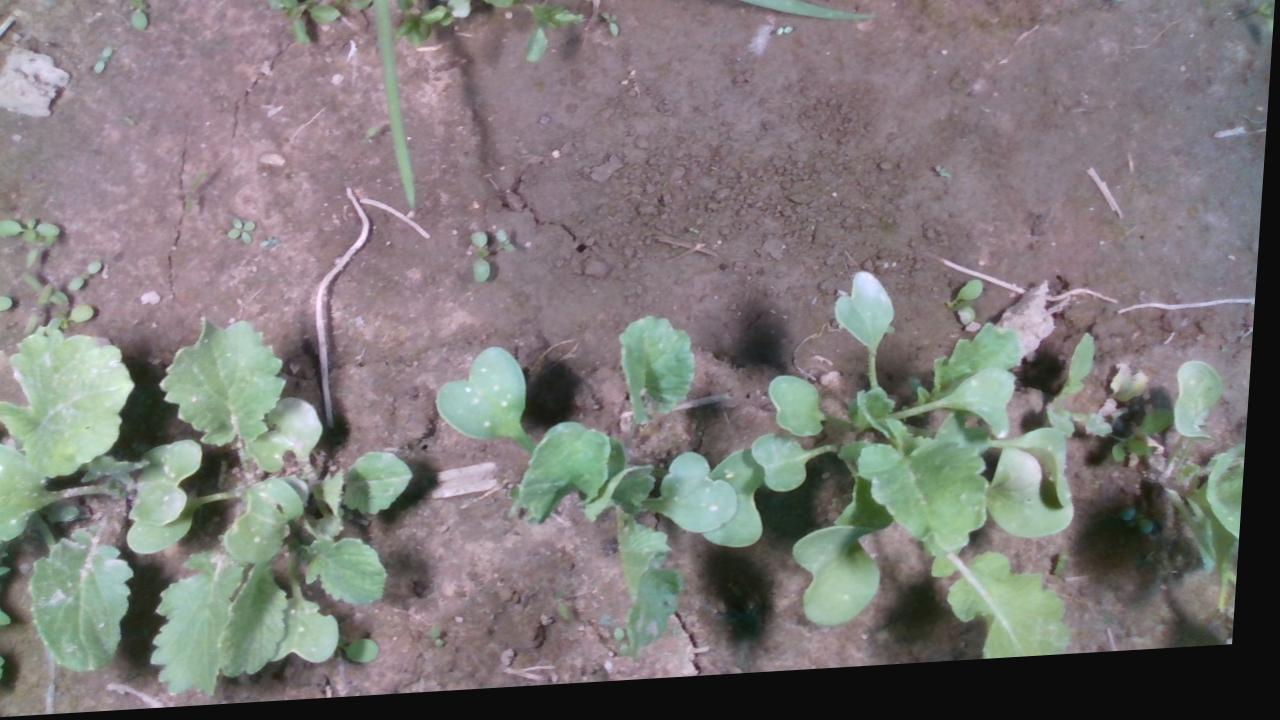weed: (0, 214, 66, 242), (471, 235, 496, 289), (69, 259, 106, 293), (1074, 0, 1129, 18), (227, 217, 259, 247), (93, 44, 114, 74), (598, 16, 621, 43), (496, 233, 519, 259), (775, 32, 794, 46)
